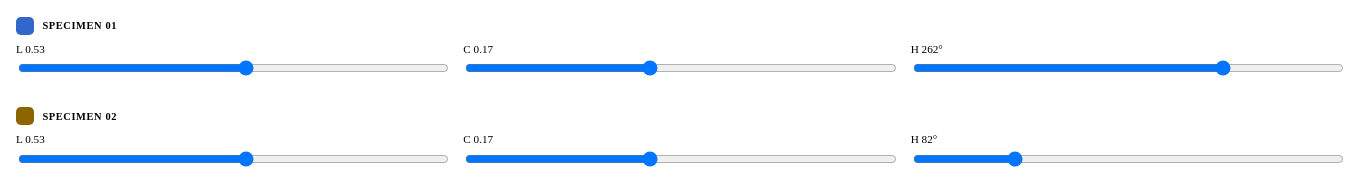
Test case: PaletteFineTuner › updates the store and shows a reset button when a slider moves
Set the slider labelled "L 0.53" below "SPECIMEN 01" to "0.95" at (421, 68), box [18,60,449,76]
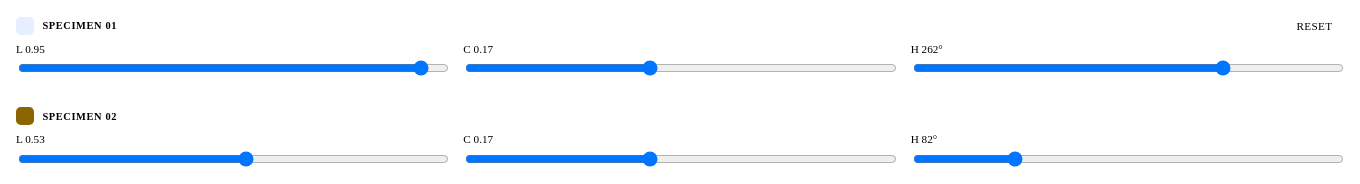
Result: the button with class "fine-tuner__reset" is shown at [1287,17,1342,35]
